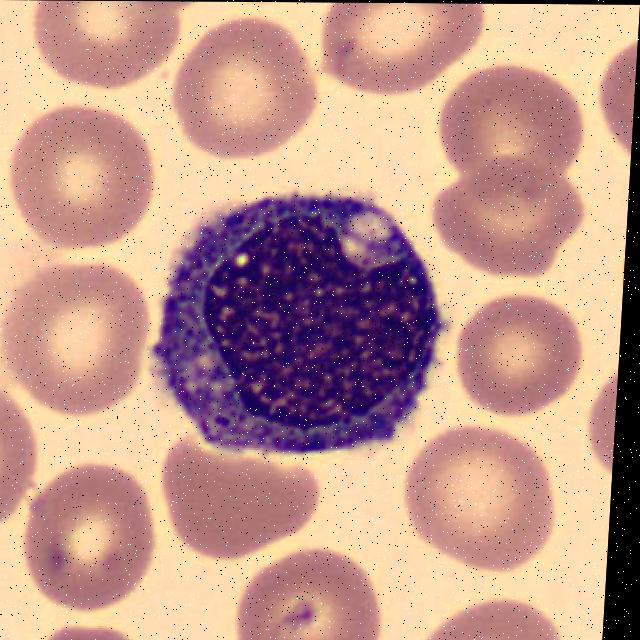monocyte: (147, 189, 452, 441)
rbc: (396, 417, 565, 572), (0, 257, 151, 423), (146, 436, 335, 568), (16, 453, 164, 617), (433, 60, 592, 204), (161, 16, 314, 165), (8, 107, 156, 251), (309, 2, 499, 106), (432, 156, 581, 277), (454, 291, 589, 418), (22, 0, 187, 102), (237, 539, 384, 640), (587, 20, 639, 184), (407, 588, 568, 640), (0, 384, 47, 558), (584, 350, 619, 478)
